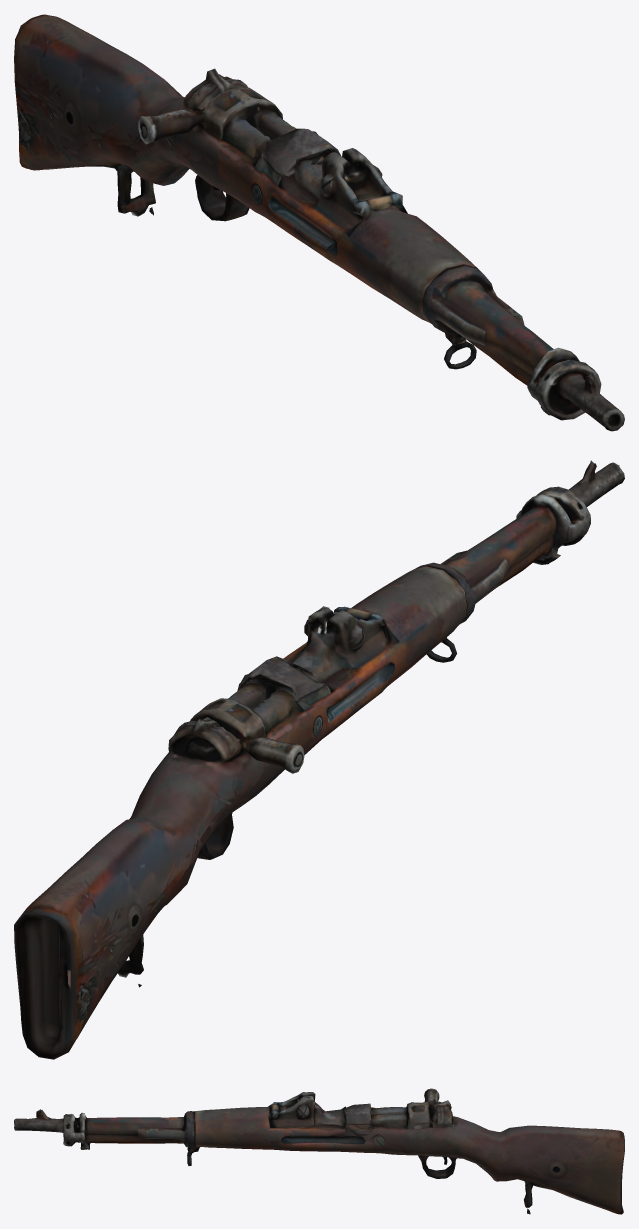
Rendered from enemy_rifle.glb.
The picture shows the model from 3 angles, top to bottom: view 1: azimuth 30°, elevation 25°; view 2: azimuth 150°, elevation 25°; view 3: azimuth 270°, elevation 25°; orthographic projection. The views are drawn at different scales.
Visible parts, largest first — view 1: Body, Bolt; view 2: Body, Bolt; view 3: Body.
Part boxes in pixels (x1,y1,x2,y2): Body: (14, 14, 624, 431); Bolt: (138, 109, 189, 144); Body: (14, 460, 624, 1059); Bolt: (253, 737, 304, 773); Body: (14, 1092, 624, 1214).
Bounding box in the file's own units: 0.1409 × 0.2426 × 1.11.
1 material, 1 textured.
